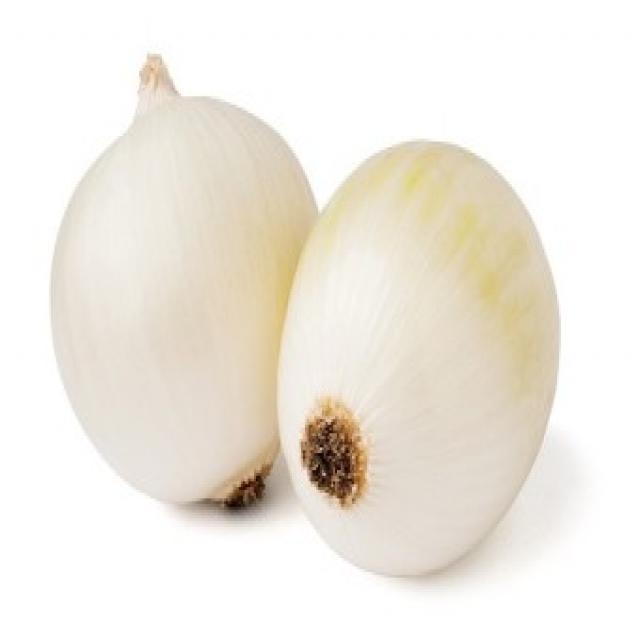onion: (36, 61, 288, 494), (307, 135, 551, 568)
